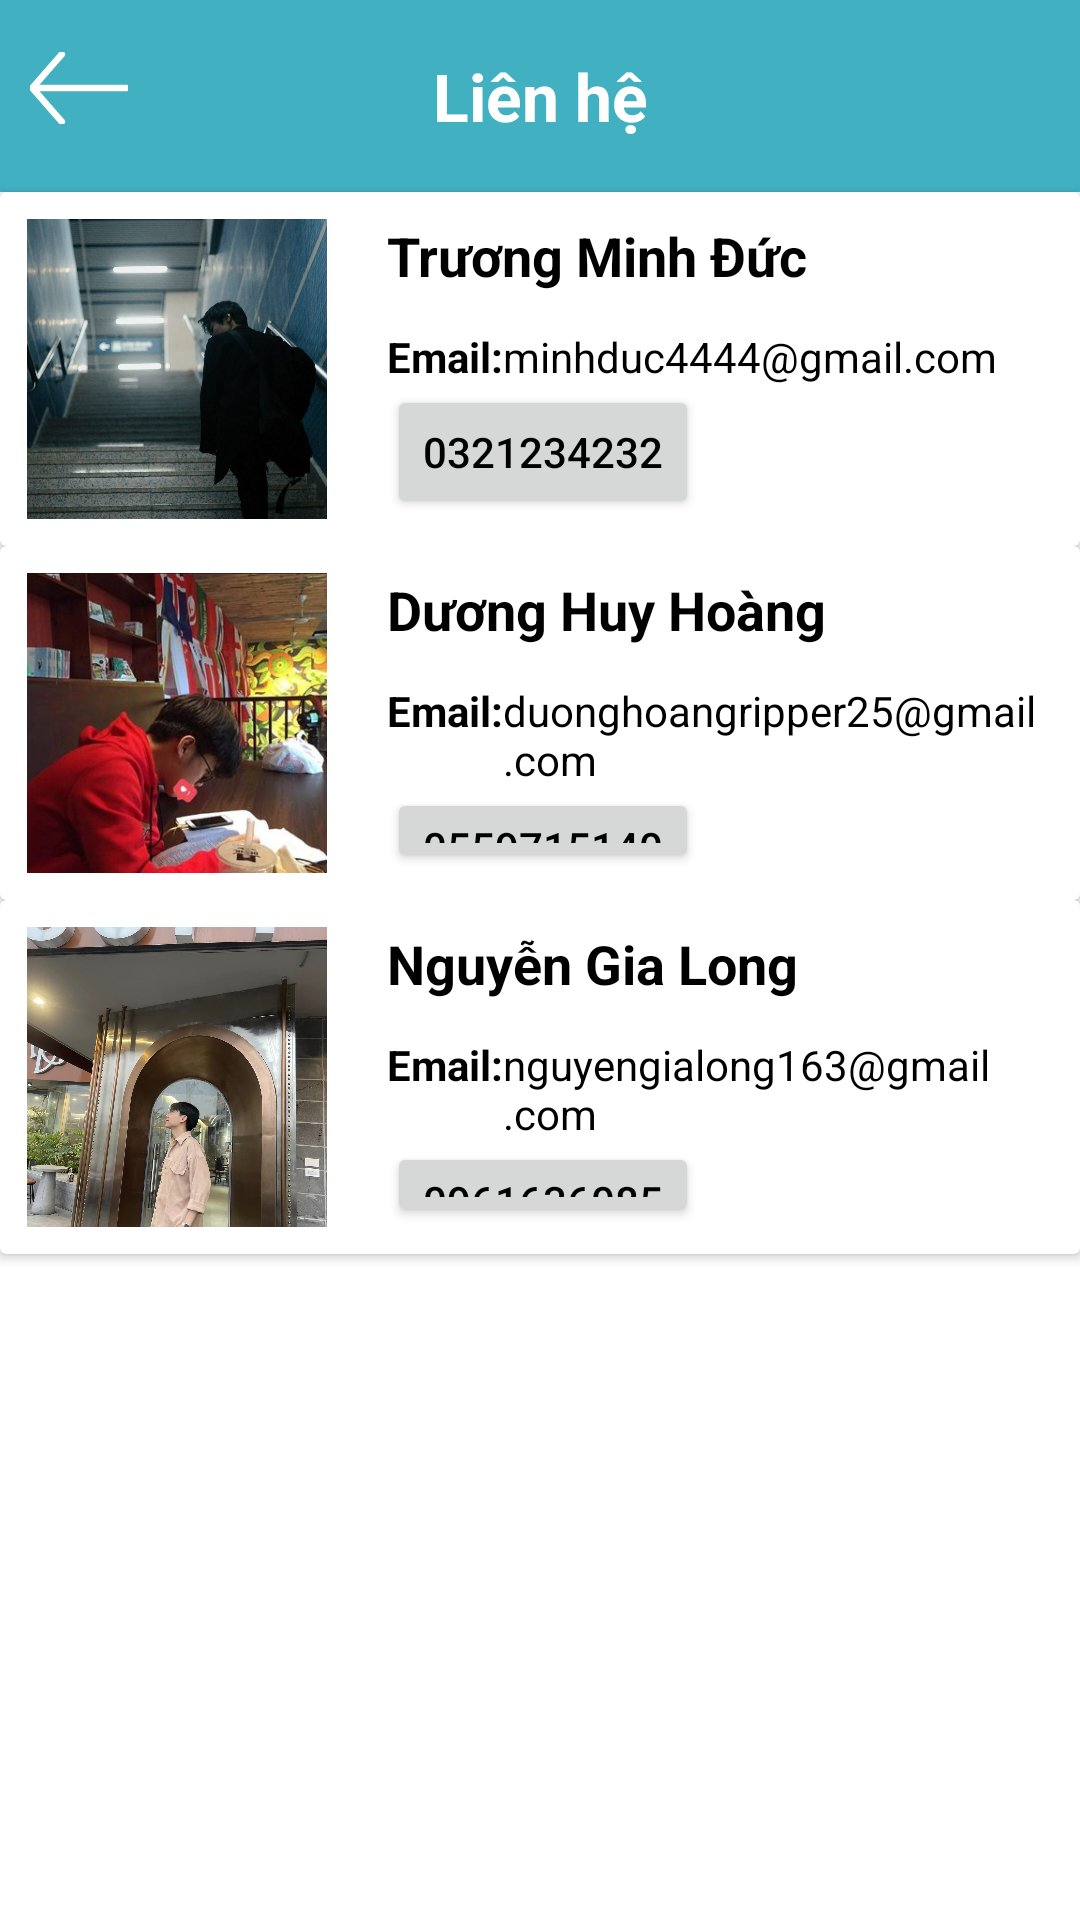

Icons on this 1080 x 1920 Android screen, each with the point to tap as (x,y):
back arrow: (79,88)
